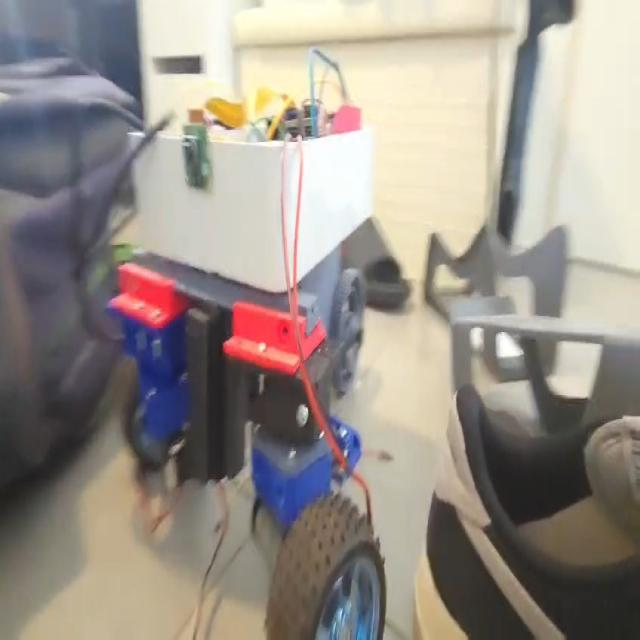Robot: (104, 95, 386, 640)
